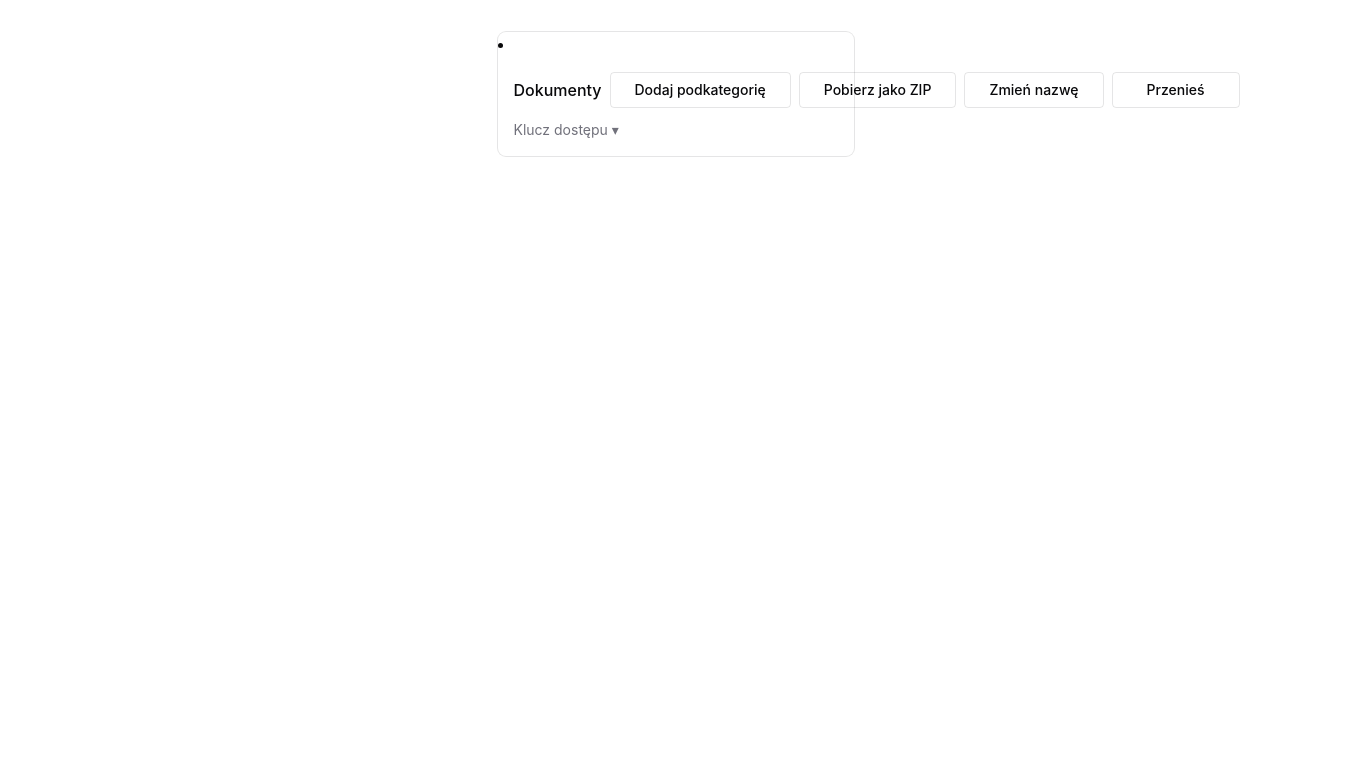
Test: CategoryRow › shows an error toast and keeps the dialog open when rename fails
Click the button "Zmień nazwę" at point(1034, 90), box [964,72,1104,108]
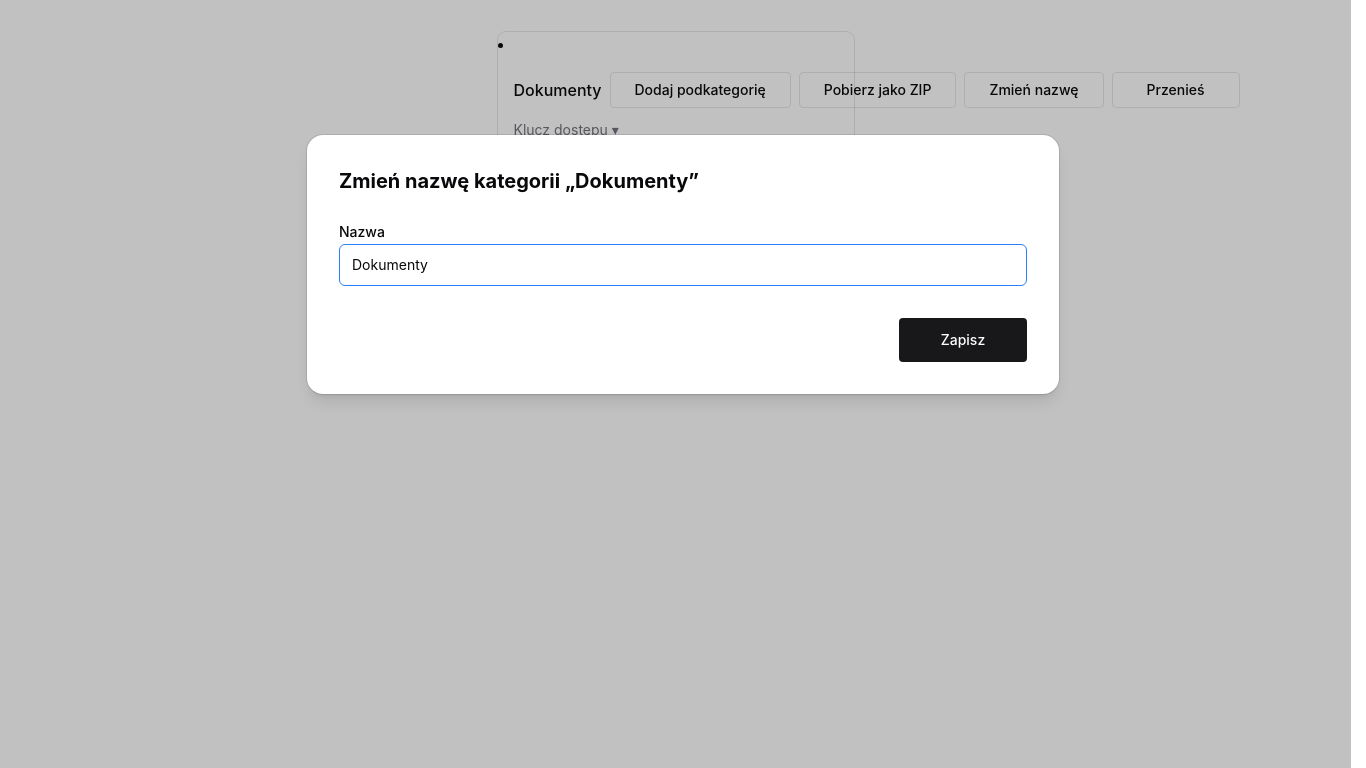
Click the button "Zapisz" at point(963, 340), box [899,318,1027,362]
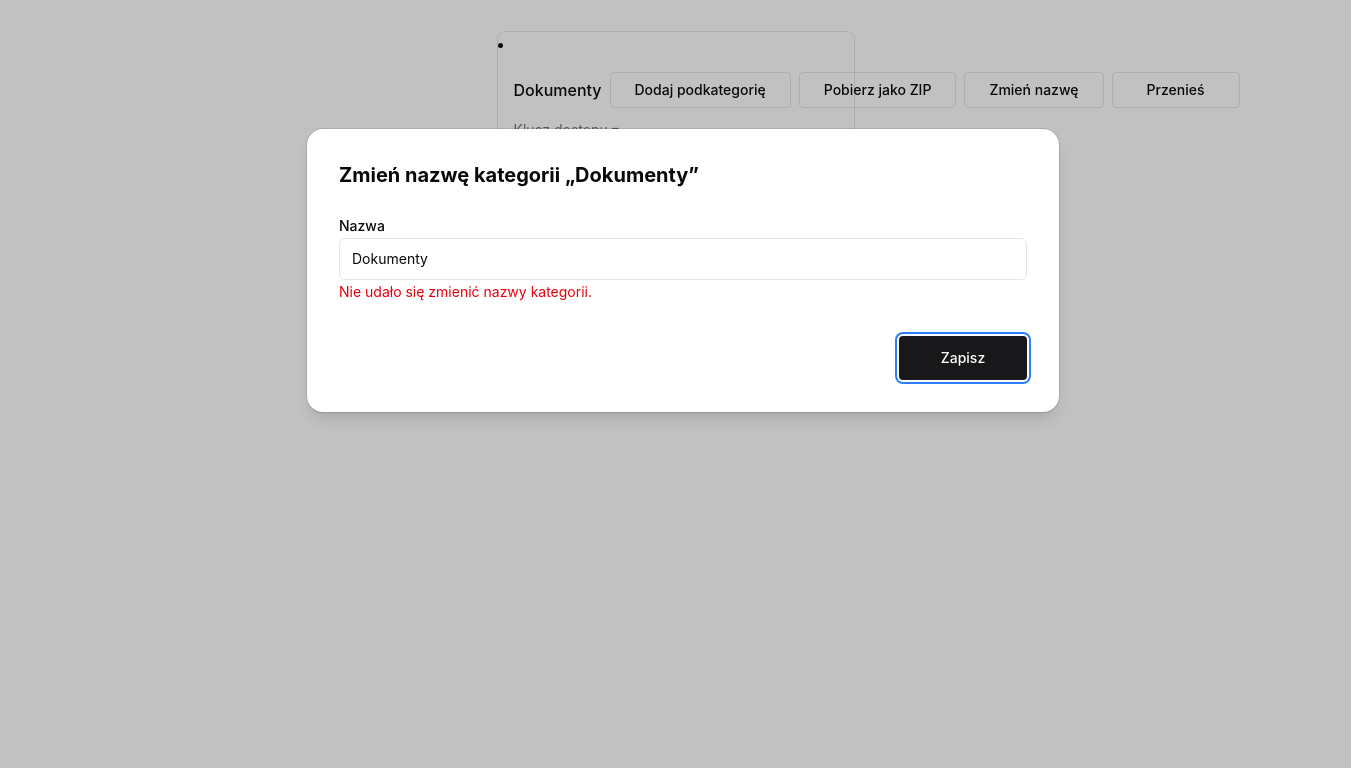
Check: the field labelled "Nazwa" is shown, box [339,238,1027,280]
Check: the text "Nie udało się zmienić nazwy kategorii." is shown, box [339,283,592,300]
